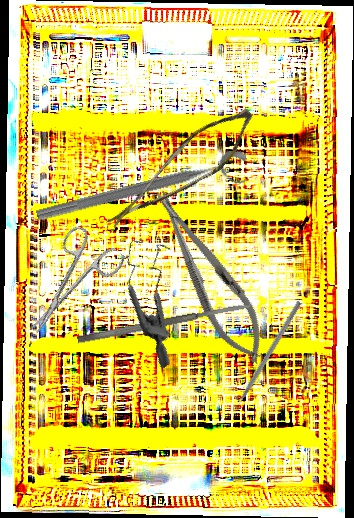Fixation Ring: (34, 147, 253, 239)
Hook Surgical: (227, 300, 303, 419)
Iris Scissors: (7, 219, 128, 350)
Micro Scissor: (105, 86, 262, 258)
Needle Holder: (140, 179, 279, 372)
Spatula Surgical: (76, 301, 252, 345)
Speculum: (86, 225, 227, 370)
